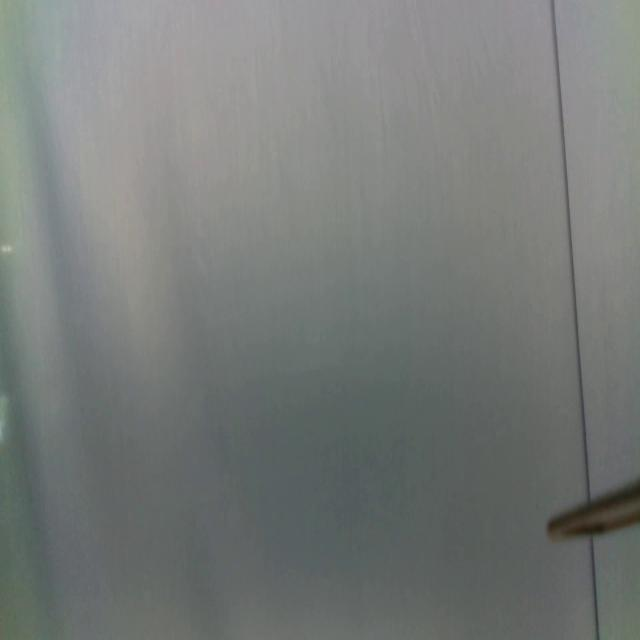crease: (550, 0, 592, 499), (590, 533, 600, 640)
